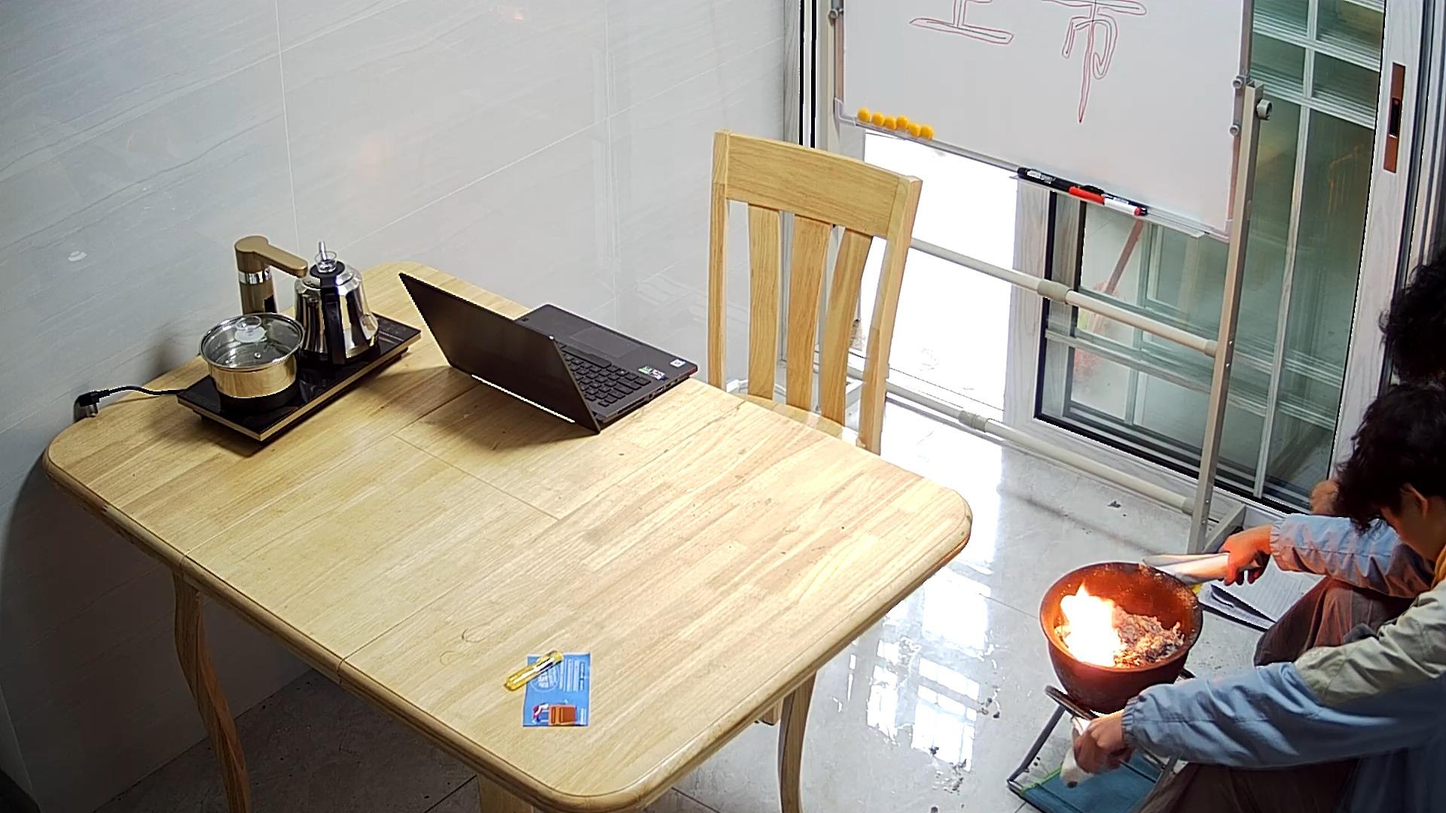fire: (1061, 586, 1121, 665)
